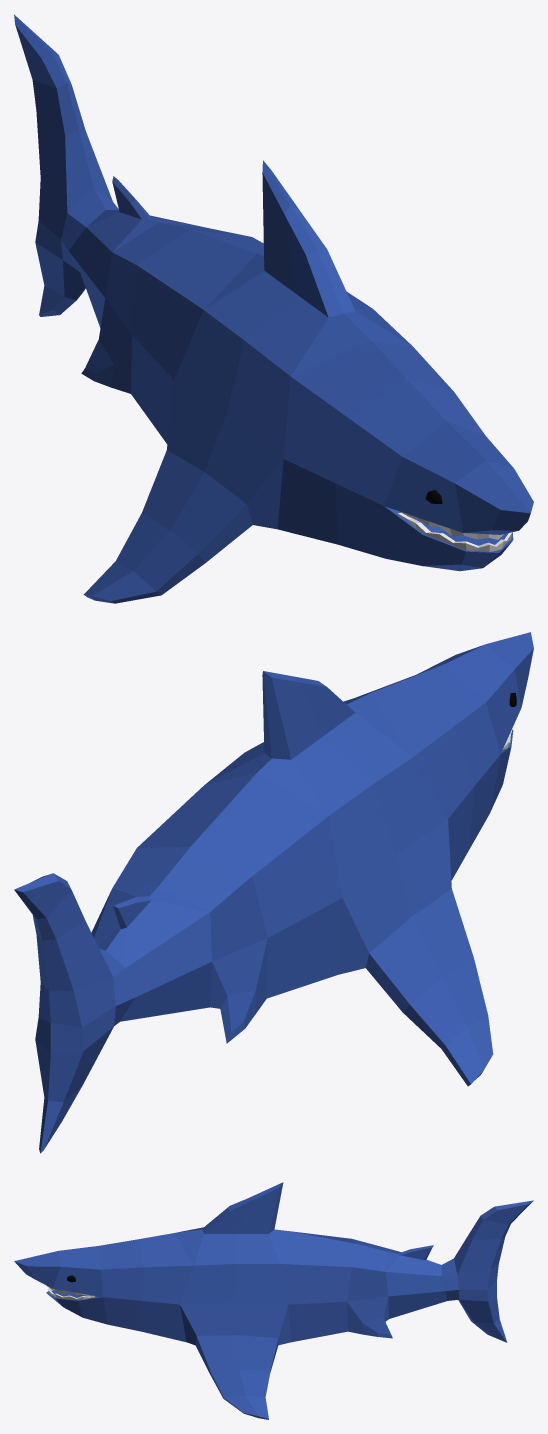
The model's file is shark.fbx.
The picture shows the model from 3 angles, top to bottom: view 1: azimuth 30°, elevation 25°; view 2: azimuth 150°, elevation 25°; view 3: azimuth 270°, elevation 25°; orthographic projection. The views are drawn at different scales.
Visible parts, largest first — view 1: Cube; view 2: Cube; view 3: Cube.
Boxes of the visible parts, x1=… form: Cube: x1=14, y1=14, x2=533, y2=603; Cube: x1=14, y1=632, x2=533, y2=1153; Cube: x1=14, y1=1182, x2=533, y2=1419.
Bounding box in the file's own units: 436 × 404 × 996.
